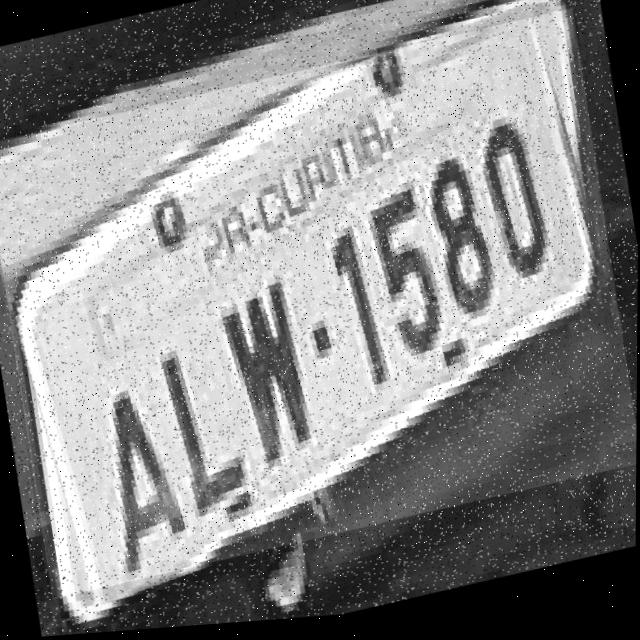LicensePlate: (0, 14, 640, 604)
